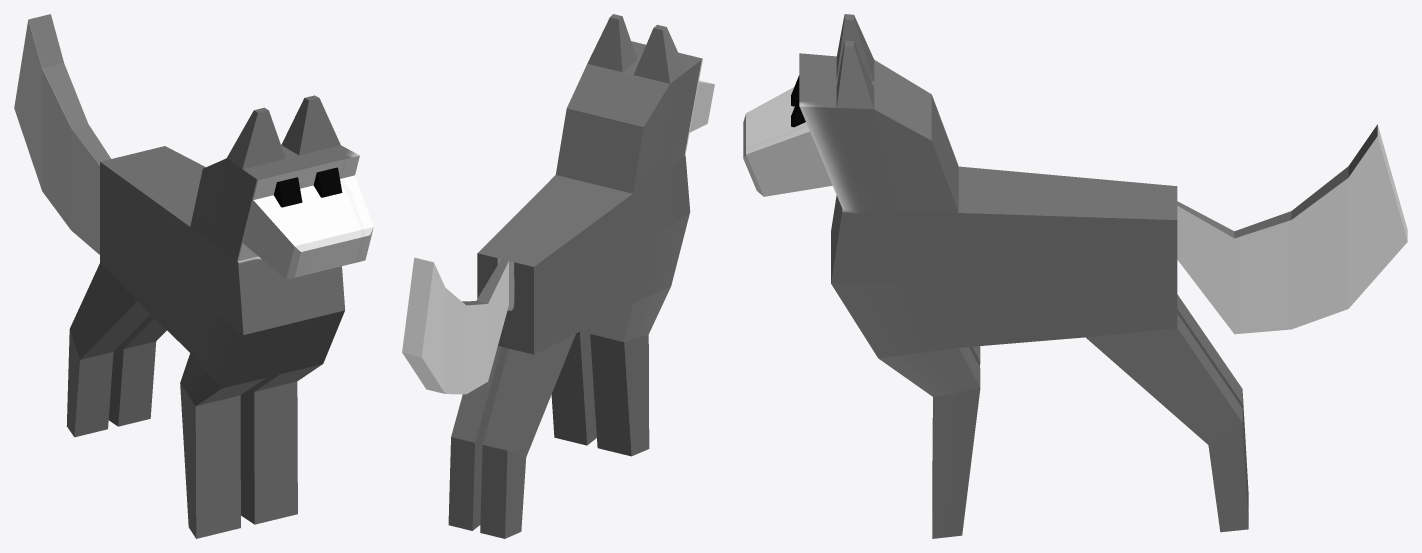
File: Bobby.glb
The picture shows the model from 3 angles, left to right: view 1: azimuth 30°, elevation 25°; view 2: azimuth 150°, elevation 25°; view 3: azimuth 270°, elevation 25°; orthographic projection. The views are drawn at different scales.
Visible parts, largest first — view 1: Cubo, Cubo.002, Cubo.001; view 2: Cubo; view 3: Cubo.
Boxes of the visible parts, left/top/right/bottom form: Cubo: left=14, top=14, right=373, bottom=538; Cubo.002: left=313, top=167, right=342, bottom=197; Cubo.001: left=274, top=177, right=302, bottom=207; Cubo: left=402, top=14, right=714, bottom=538; Cubo: left=743, top=14, right=1407, bottom=538.
Bounding box in the file's own units: 0.7977 × 3.38 × 4.22.
3 materials, 1 textured.
